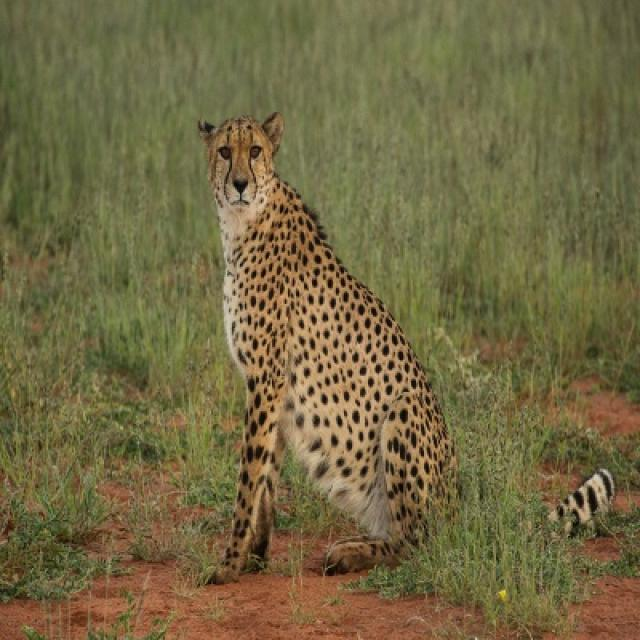Cheetah: (200, 114, 456, 584)
